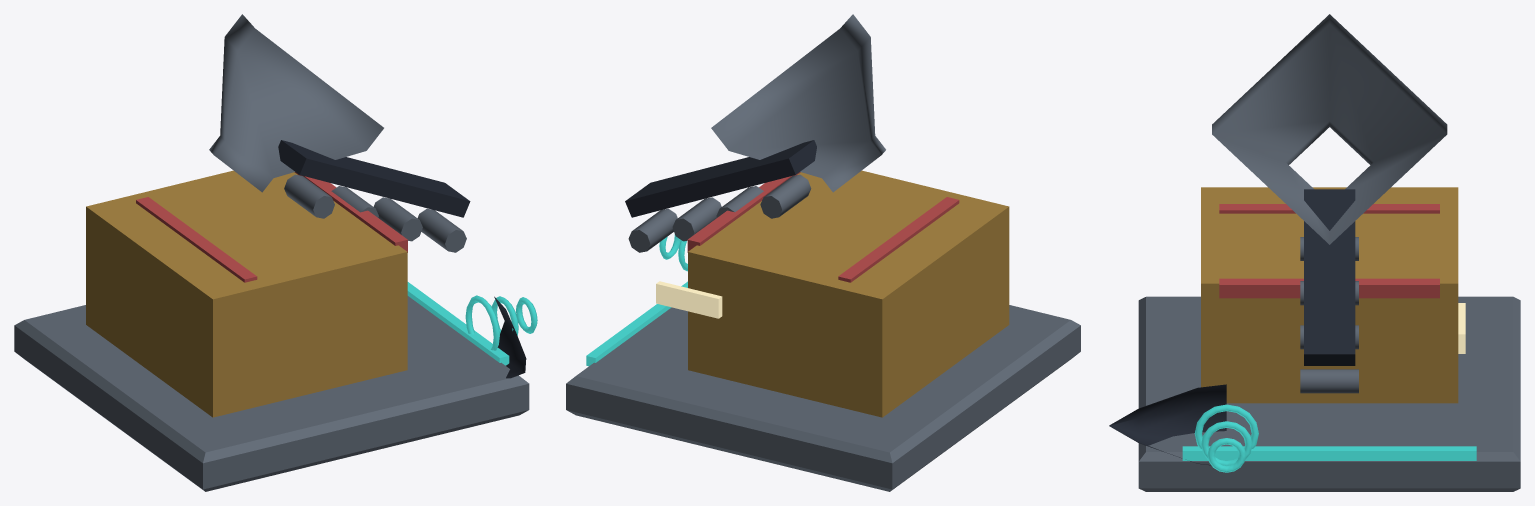
File: mining.glb
The picture shows the model from 3 angles, left to right: view 1: azimuth 30°, elevation 25°; view 2: azimuth 150°, elevation 25°; view 3: azimuth 270°, elevation 25°; orthographic projection.
Visible parts, largest first — view 1: mining; view 2: mining; view 3: mining.
Boxes of the visible parts, x1,y1,x2,y2 form: mining: [14, 14, 537, 491]; mining: [566, 14, 1080, 491]; mining: [1109, 14, 1520, 491].
Size of the model in its own units: 1.18 by 1.16 by 1.12.
